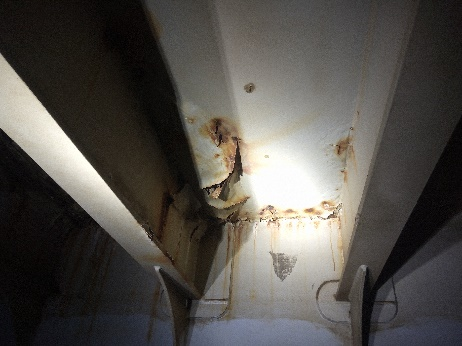corrosion: (212, 222, 240, 301), (209, 116, 243, 173), (210, 193, 254, 224), (335, 133, 362, 174), (207, 174, 242, 204), (304, 196, 341, 221), (256, 203, 300, 221)
